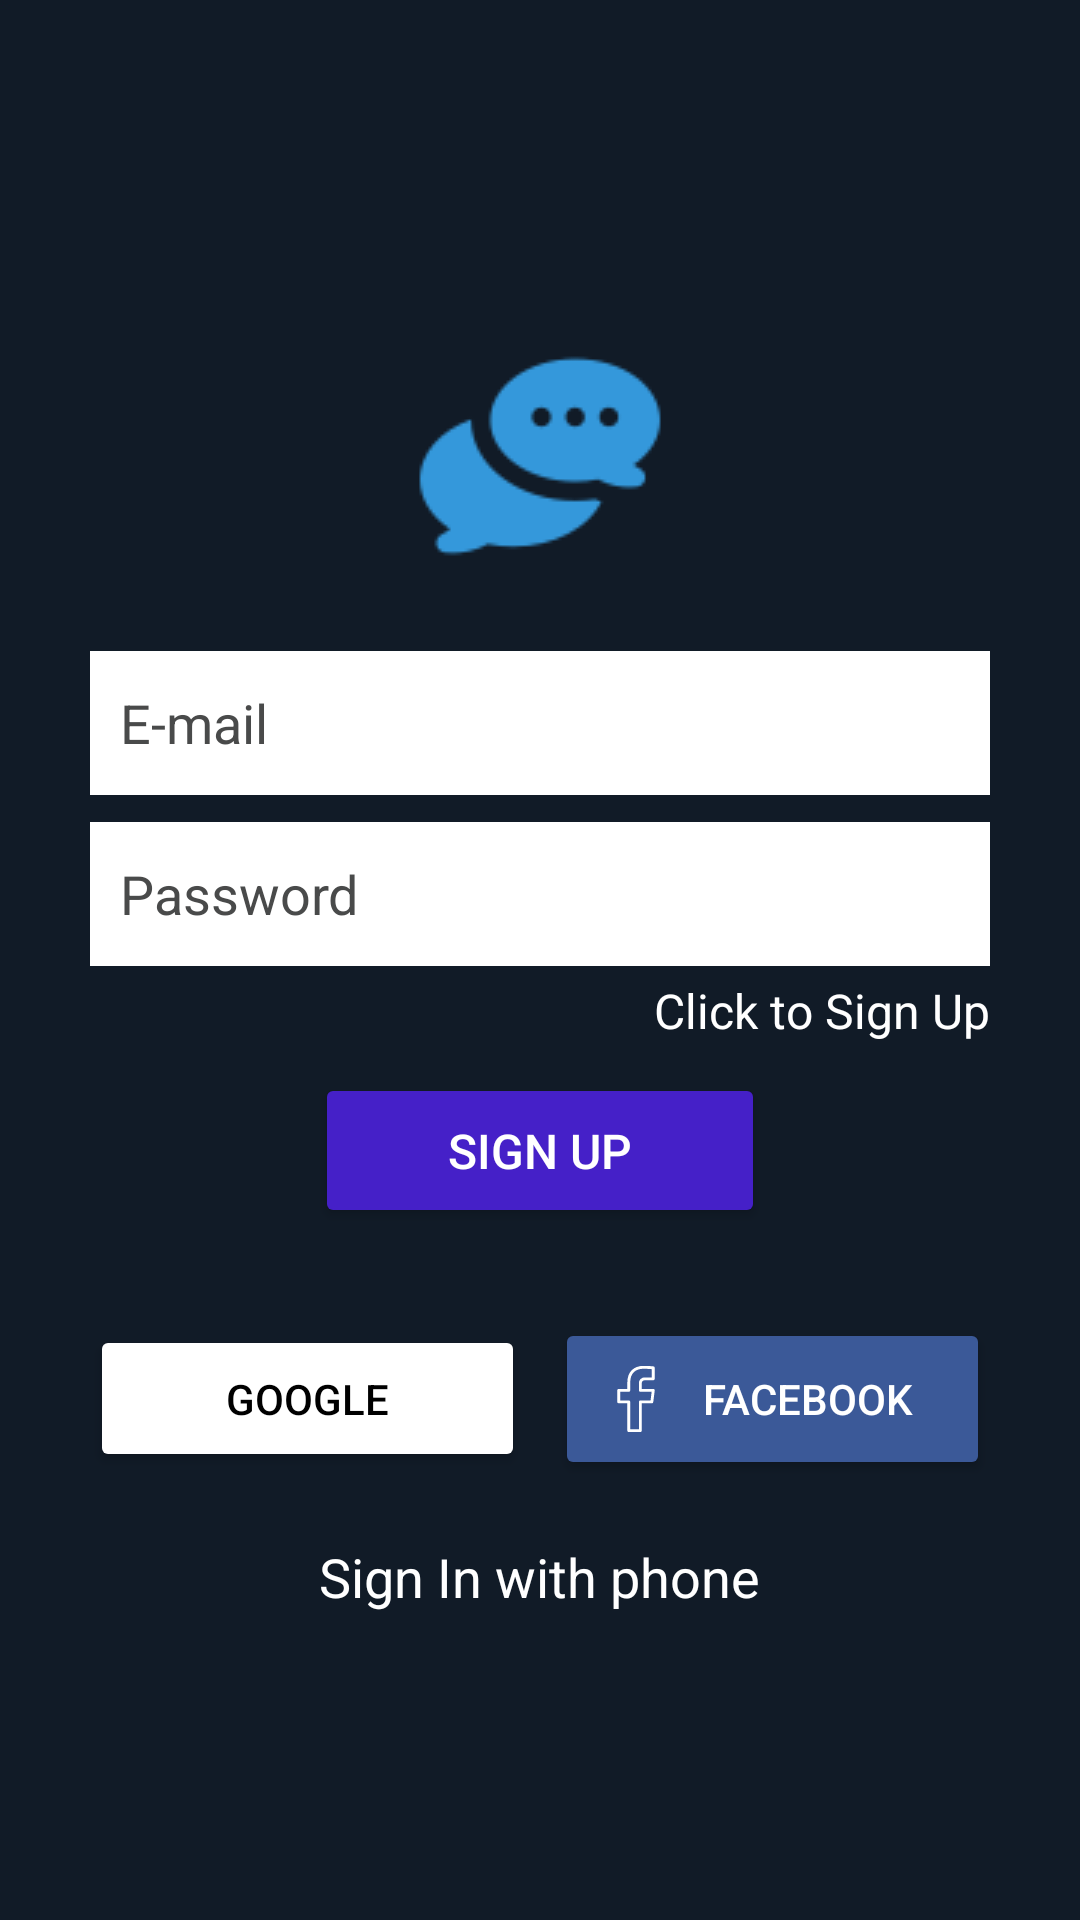

Named icons in this screenshot (1080 × 1920) and their bounding boxes, (x1, y1, x2, y2):
chatting: (419, 357, 661, 555)
